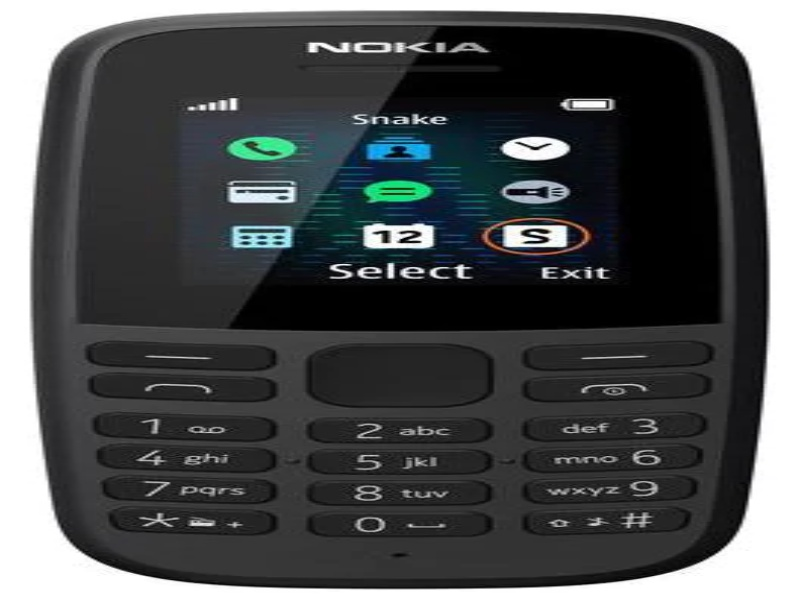mobile: (36, 7, 773, 600)
